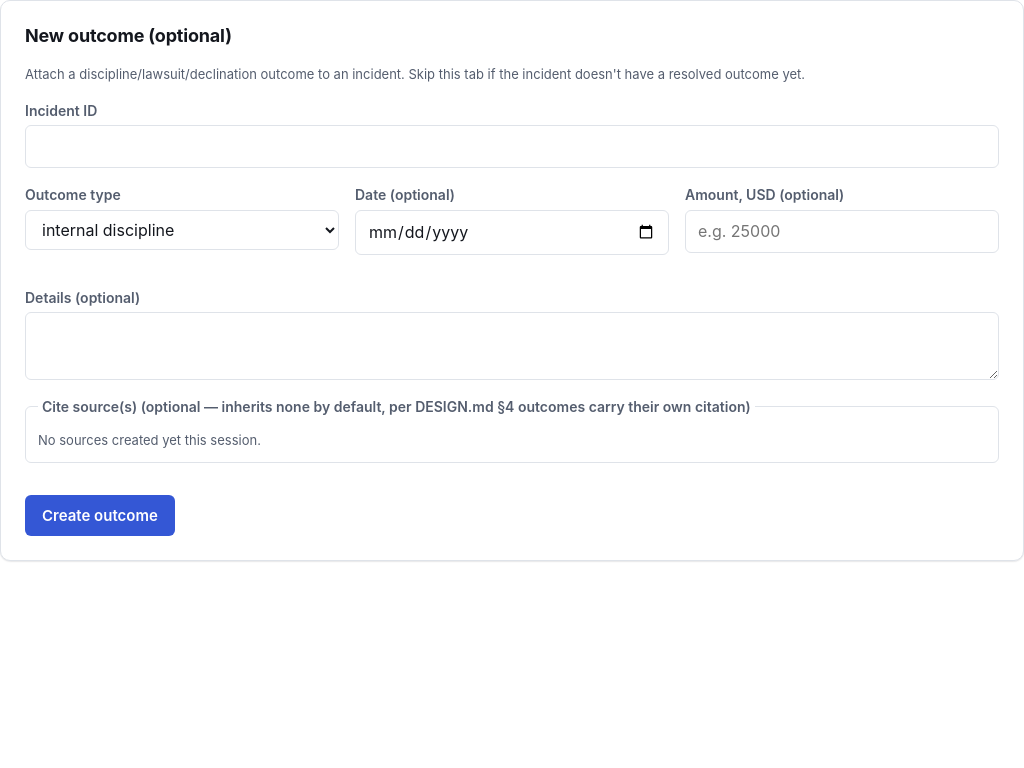
Test: NewOutcomeForm › blocks submission with a negative amount
The image size is (1024, 768).
In the field labelled "Incident ID": (512, 147) [25,125,999,168], type "inc-1"
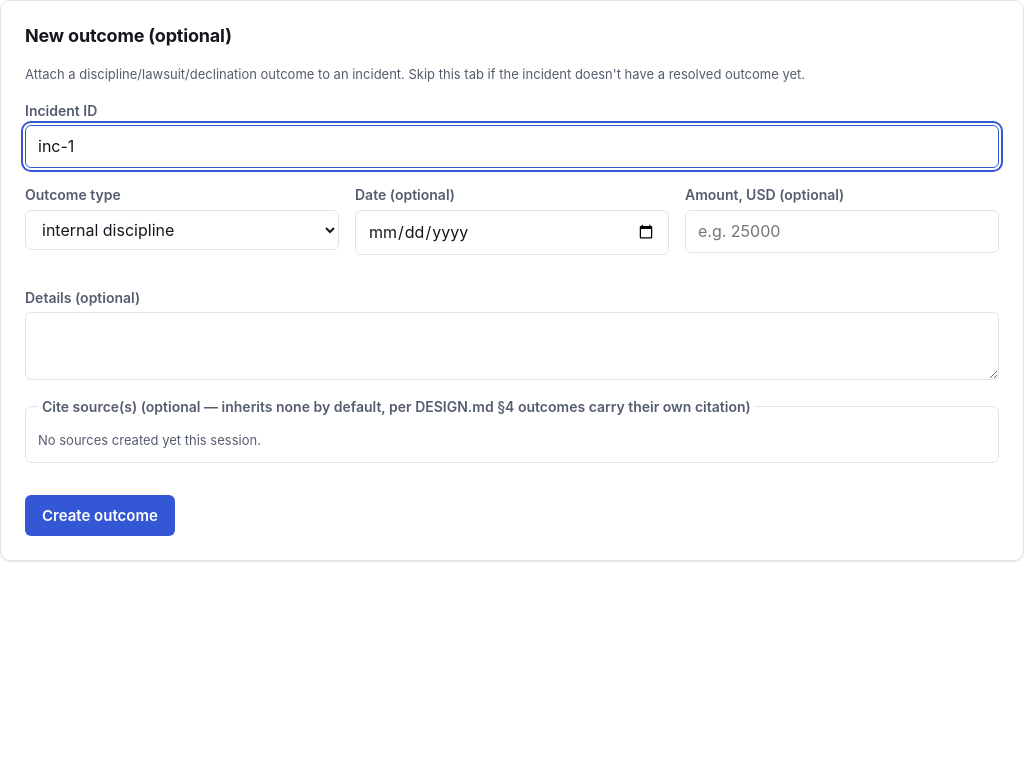
In the number field labelled "Amount, USD (optional)": (842, 231) [685,210,999,253], type "-5"
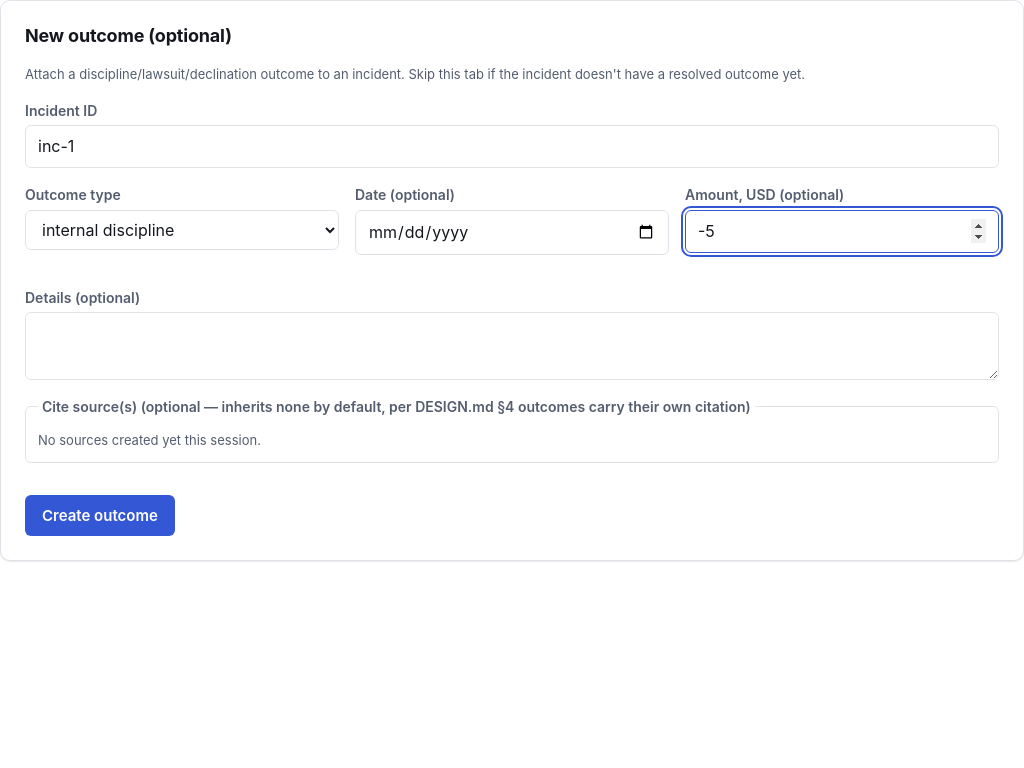
Submit the form named "Create outcome"
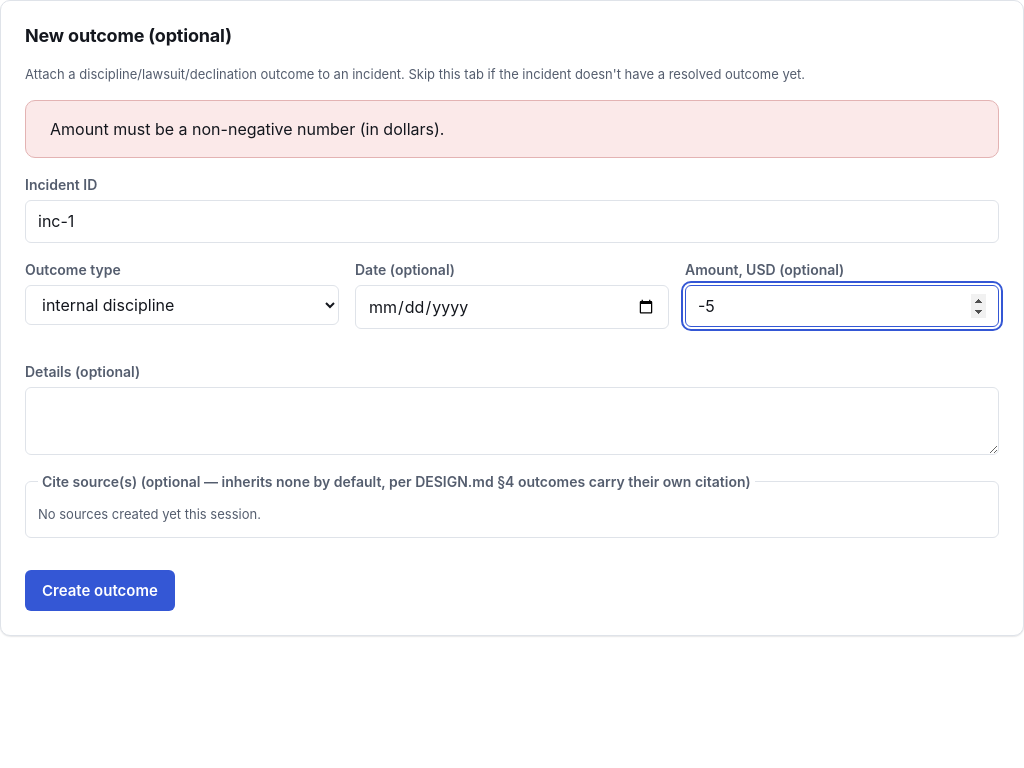
Expected: the text "Amount must be a non-negative number (in dollars)." is shown, [25,100,999,158]
